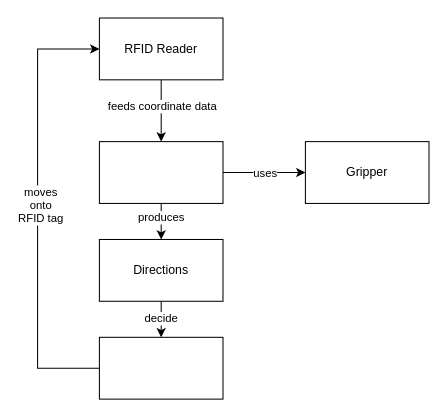
Some shapes in this 447 by 417 pixel diagram are drawn without their labels. The shapes that lost their labels are listed below. From the top down, each one's centre as x and y in pixels, then its label:
At point (160, 172): "Pathfinder BRAIN".
At point (160, 367): "Motor Control".
